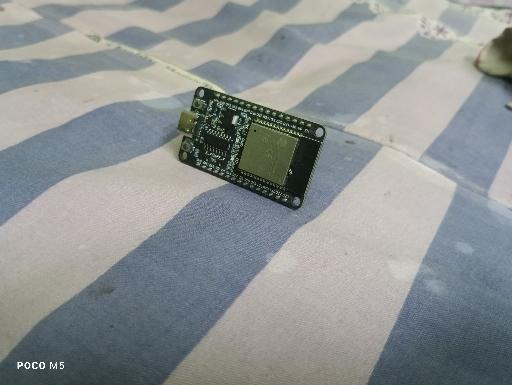Esp32: (176, 85, 327, 211)
